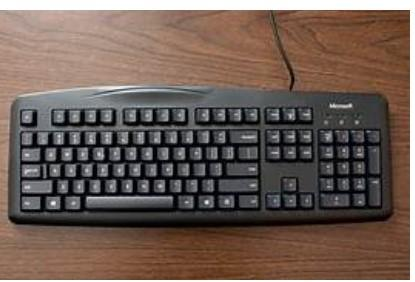Keyboard: (7, 84, 394, 229)
